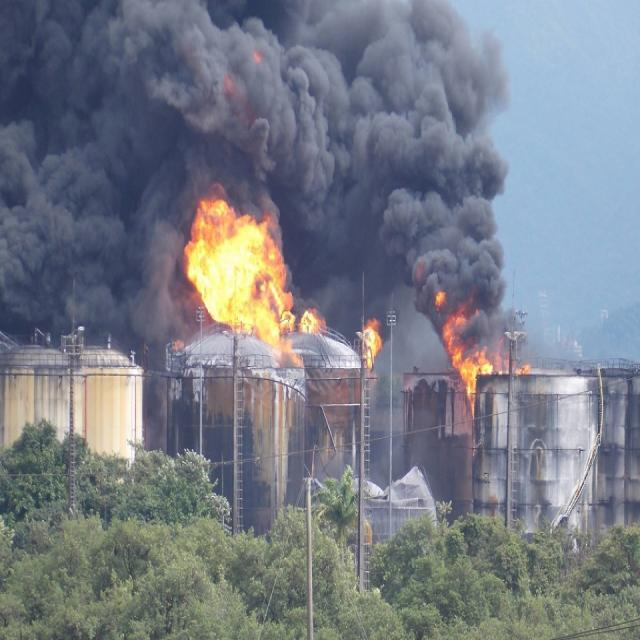Fire: (181, 191, 325, 355), (434, 287, 502, 416), (358, 318, 383, 368), (516, 360, 531, 380)
